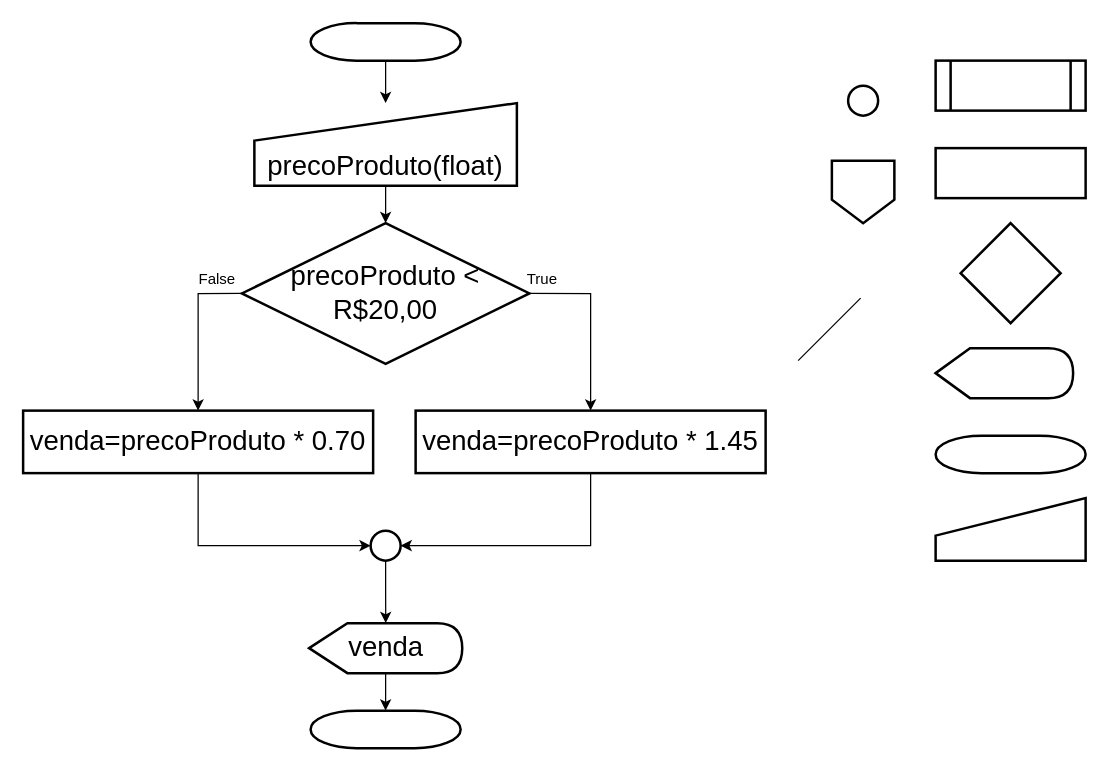
Image size: 1108x770. Some labels were removed from this diagram. The centre of each missing label's shape, as x and y in pixels:
"fim" goes at (x=385, y=729).
"Início" goes at (x=385, y=41).
